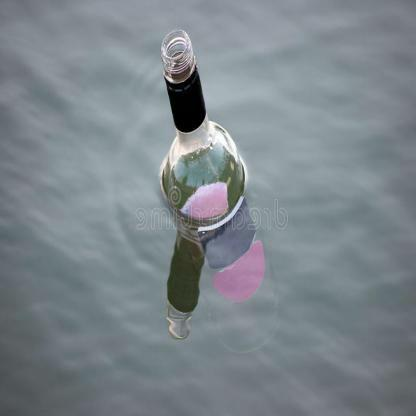Glass: (153, 26, 251, 243)
